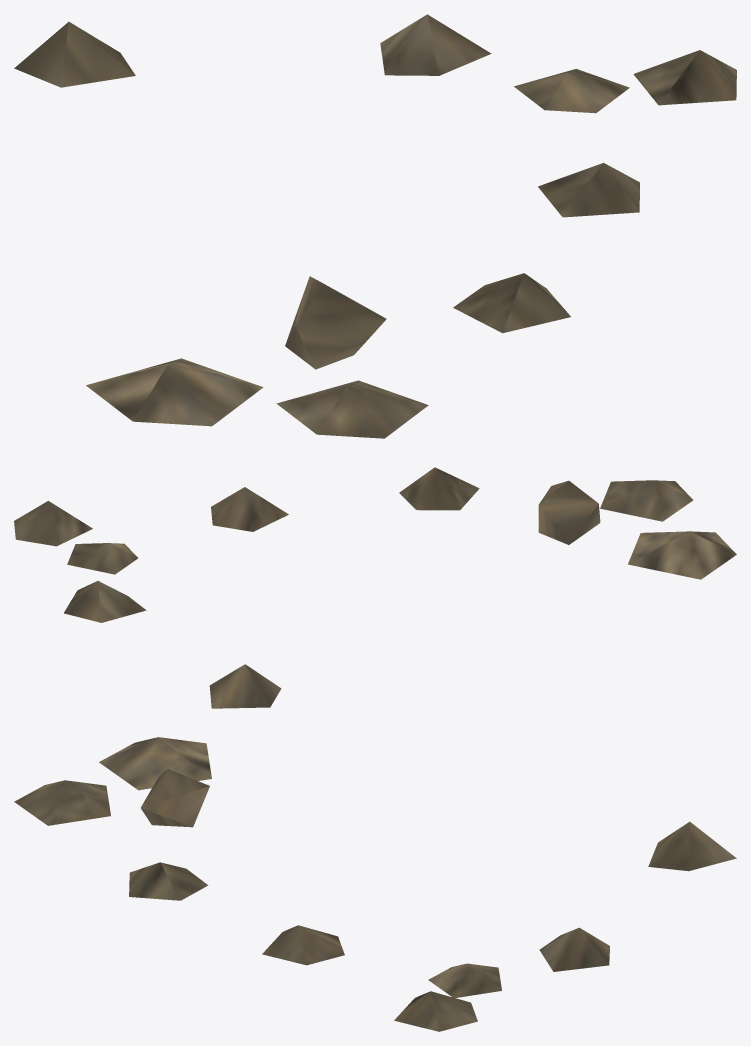
File: rock_gfield2.glb
The picture shows the model from 3 angles, top to bottom: view 1: azimuth 30°, elevation 25°; view 2: azimuth 150°, elevation 25°; view 3: azimuth 270°, elevation 25°; orthographic projection. The views are drawn at different scales.
Visible parts, largest first — view 1: Rock_GField1; view 2: Rock_GField1; view 3: Rock_GField1.
Boxes of the visible parts, x1=… form: Rock_GField1: x1=14, y1=14, x2=736, y2=438; Rock_GField1: x1=14, y1=467, x2=736, y2=708; Rock_GField1: x1=14, y1=737, x2=736, y2=1031.
Size of the model in its own units: 20.6 by 1.74 by 21.68.
Materials: 1 (1 with a texture image).
